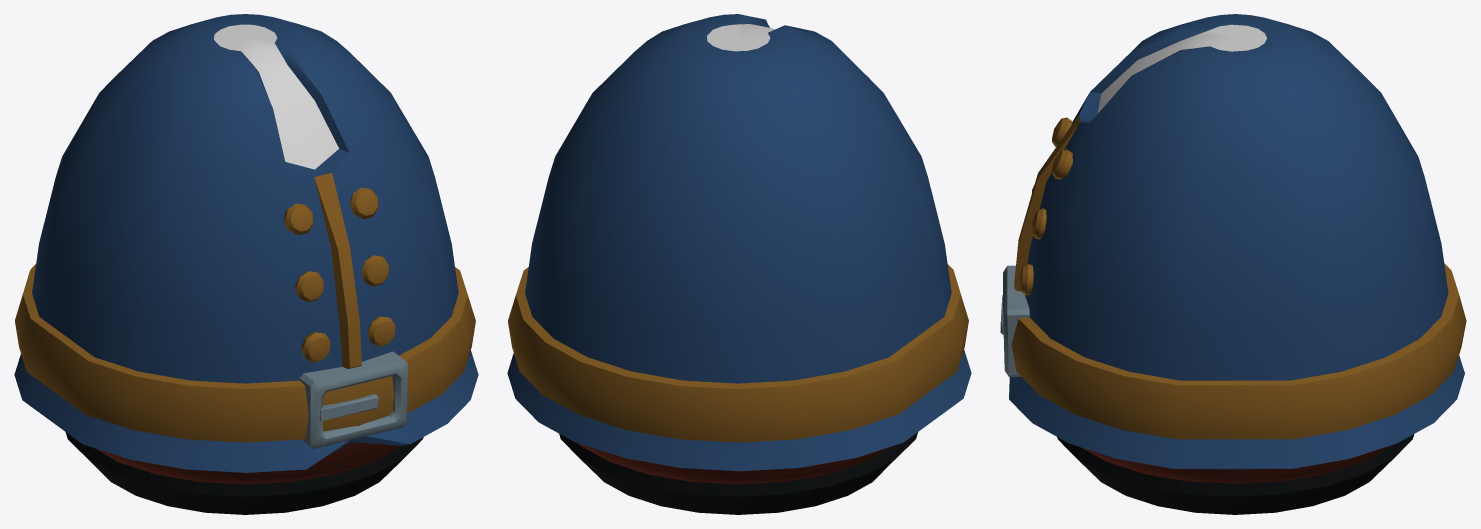
File: character_kingBody.obj
The picture shows the model from 3 angles, left to right: view 1: azimuth 30°, elevation 25°; view 2: azimuth 150°, elevation 25°; view 3: azimuth 270°, elevation 25°; orthographic projection.
Parts seen in each view (by area): view 1: character_kingBody_Cube.126; view 2: character_kingBody_Cube.126; view 3: character_kingBody_Cube.126.
Part boxes in pixels (left/top/right/bottom): character_kingBody_Cube.126: left=14, top=14, right=478, bottom=514; character_kingBody_Cube.126: left=507, top=14, right=971, bottom=514; character_kingBody_Cube.126: left=1000, top=14, right=1466, bottom=514.
Size of the model in its own units: 0.7164 by 0.7256 by 0.745.
